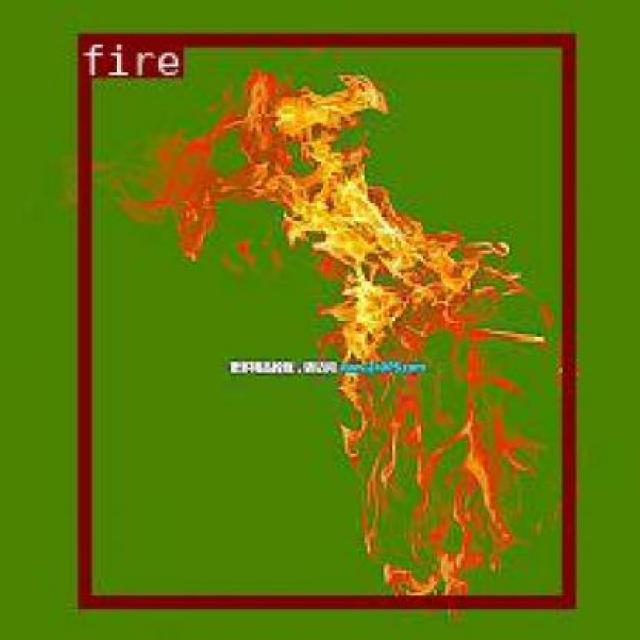Fire: (75, 32, 572, 606)
